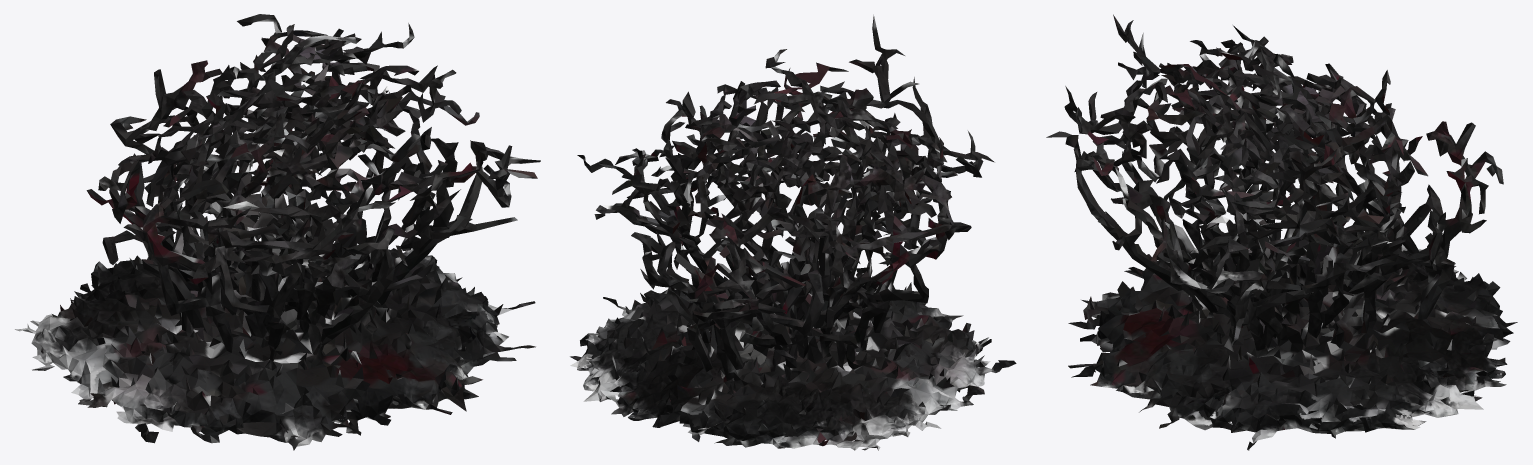
Rendered from shadowlands_thorns.glb.
The picture shows the model from 3 angles, left to right: view 1: azimuth 30°, elevation 25°; view 2: azimuth 150°, elevation 25°; view 3: azimuth 270°, elevation 25°; orthographic projection. The views are drawn at different scales.
Parts seen in each view (by area): view 1: temp_mesh.ply; view 2: temp_mesh.ply; view 3: temp_mesh.ply.
Boxes of the visible parts, bbox=[...] form: temp_mesh.ply: bbox=[15, 14, 540, 450]; temp_mesh.ply: bbox=[570, 14, 1016, 450]; temp_mesh.ply: bbox=[1046, 14, 1517, 450].
Size of the model in its own units: 1.88 by 1.38 by 1.79.
Materials: 1 (1 with a texture image).
